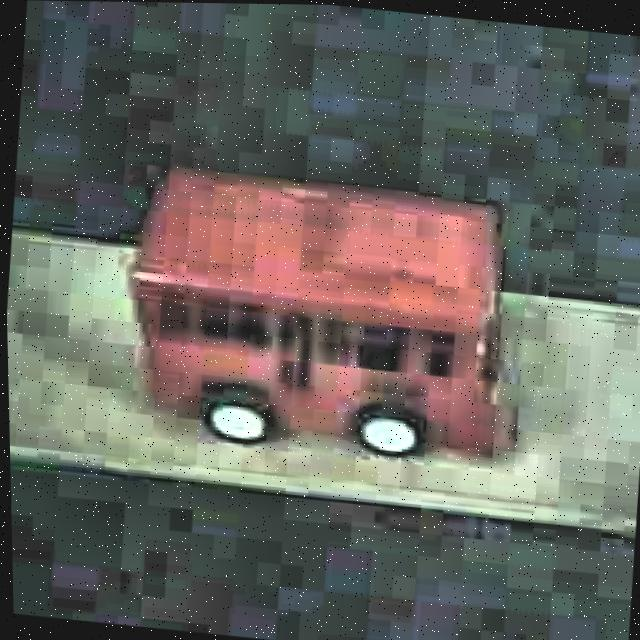bus: (112, 161, 520, 479)
